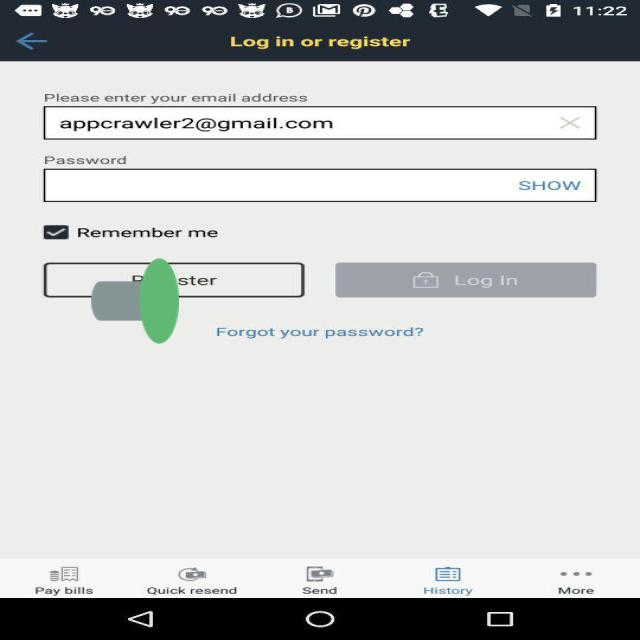social proof: (91, 206, 179, 396)
